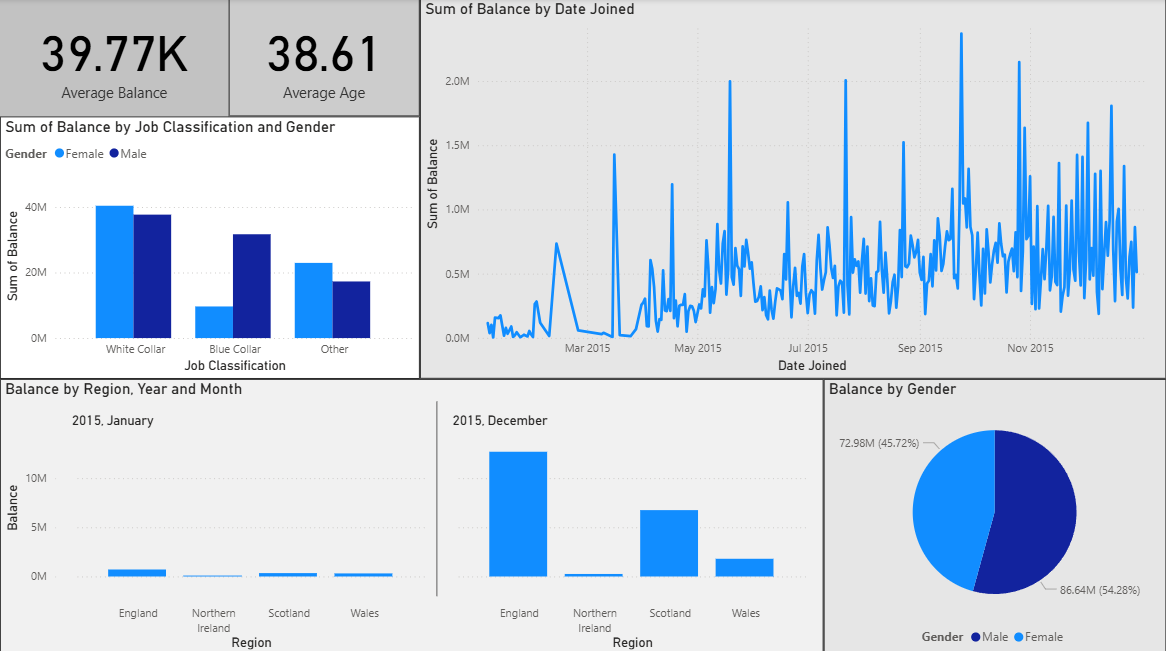

What the dashboard file says about the page in this screenshot:
{"tool":"powerbi","page":{"name":"UK-Bank-Customers","canvas":[1280,720],"ordinal":0},"visuals":[{"type":"card","fields":{"Values":["Avg(P1-UK-Bank-Customers.Balance)"]},"box":[0,0,251.1,129],"z":0},{"type":"card","fields":{"Values":["Avg(P1-UK-Bank-Customers.Age)"]},"box":[251.1,0,209.9,129],"z":1000},{"type":"lineChart","fields":{"Category":["P1-UK-Bank-Customers.Date Joined"],"Y":["Sum(P1-UK-Bank-Customers.Balance)"]},"box":[461.1,0,819.2,417.2],"z":2000},{"type":"clusteredColumnChart","fields":{"Category":["P1-UK-Bank-Customers.Job Classification"],"Y":["Sum(P1-UK-Bank-Customers.Balance)"],"Series":["P1-UK-Bank-Customers.Gender"]},"box":[0,129,461.1,288.2],"z":3000},{"type":"pieChart","fields":{"Category":["P1-UK-Bank-Customers.Gender"],"Y":["Sum(P1-UK-Bank-Customers.Balance)"]},"box":[904.3,417.2,376,303.3],"z":4000},{"type":"lineClusteredColumnComboChart","fields":{"Category":["P1-UK-Bank-Customers.Region"],"Y":["Sum(P1-UK-Bank-Customers.Balance)"],"Rows":["P1-UK-Bank-Customers.Date Joined.Variation.Date Hierarchy.Year","P1-UK-Bank-Customers.Date Joined.Variation.Date Hierarchy.Month"]},"box":[0,416.7,904.3,303.3],"z":5000}]}

Visuals, with their boxes in screenshot pixels (x1, y1, x2, y2), scaled from the page's 1280x720 canvas onto the 1166x651 screenshot:
card - Avg(P1-UK-Bank-Customers.Balance): region(0, 0, 229, 117)
card - Avg(P1-UK-Bank-Customers.Age): region(229, 0, 420, 117)
lineChart - P1-UK-Bank-Customers.Date Joined x Sum(P1-UK-Bank-Customers.Balance): region(420, 0, 1165, 377)
clusteredColumnChart - P1-UK-Bank-Customers.Job Classification x Sum(P1-UK-Bank-Customers.Balance): region(0, 117, 420, 377)
pieChart - P1-UK-Bank-Customers.Gender x Sum(P1-UK-Bank-Customers.Balance): region(824, 377, 1165, 650)
lineClusteredColumnComboChart - P1-UK-Bank-Customers.Region x Sum(P1-UK-Bank-Customers.Balance): region(0, 377, 824, 650)
